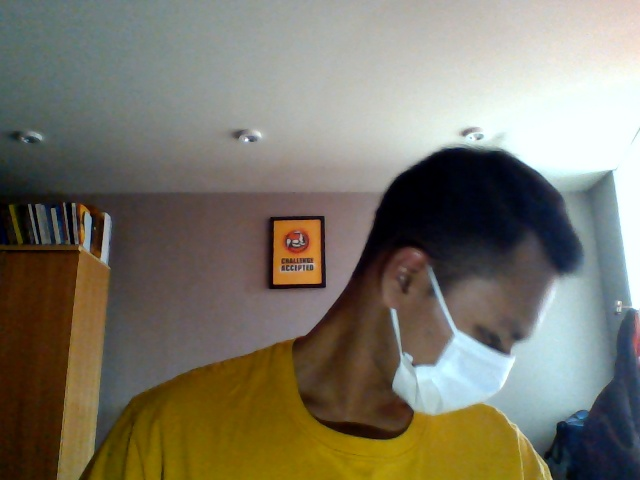mask: (396, 341, 519, 418)
